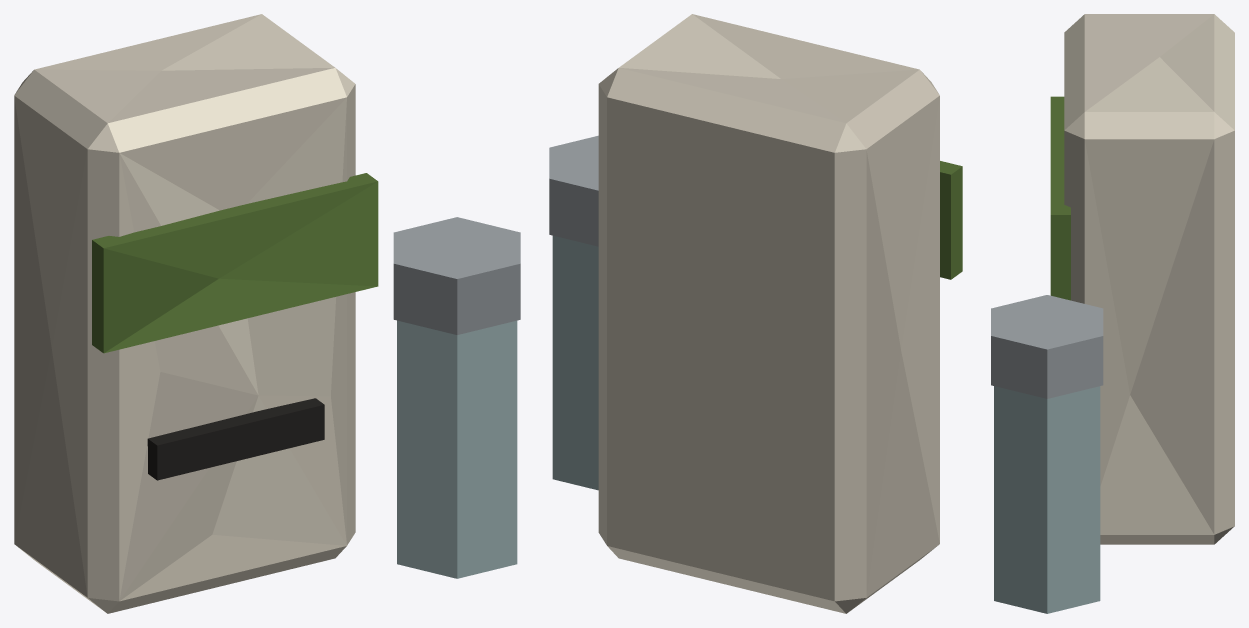
Rendered from antibiotics_uzkospetsialnye_idle.glb.
The picture shows the model from 3 angles, left to right: view 1: azimuth 30°, elevation 25°; view 2: azimuth 150°, elevation 25°; view 3: azimuth 270°, elevation 25°; orthographic projection. The views are drawn at different scales.
Parts seen in each view (by area): view 1: antibiotics_uzkospetsialnye_idle; view 2: antibiotics_uzkospetsialnye_idle; view 3: antibiotics_uzkospetsialnye_idle.
Part boxes in pixels (x1,y1,x2,y2): antibiotics_uzkospetsialnye_idle: (14, 14, 520, 613); antibiotics_uzkospetsialnye_idle: (549, 14, 962, 613); antibiotics_uzkospetsialnye_idle: (991, 14, 1234, 613).
Bounding box in the file's own units: 0.062 × 0.07 × 0.0357.
1 material, 1 textured.
